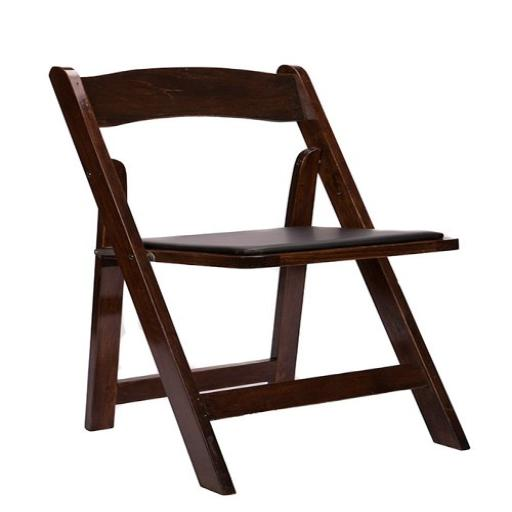chair: (38, 63, 488, 496)
